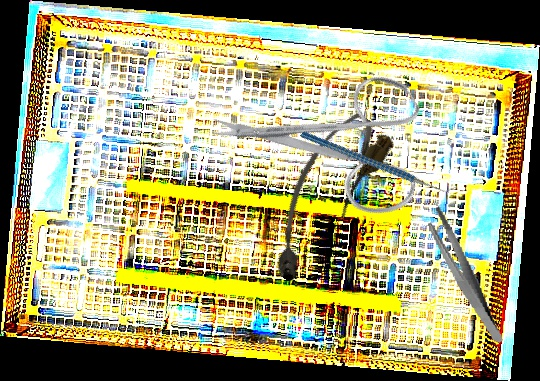Cannula: (246, 103, 399, 290)
Chopper: (299, 86, 459, 236)
Dressing Forceps: (424, 199, 504, 352)
Iris Scissors: (205, 21, 460, 273)
